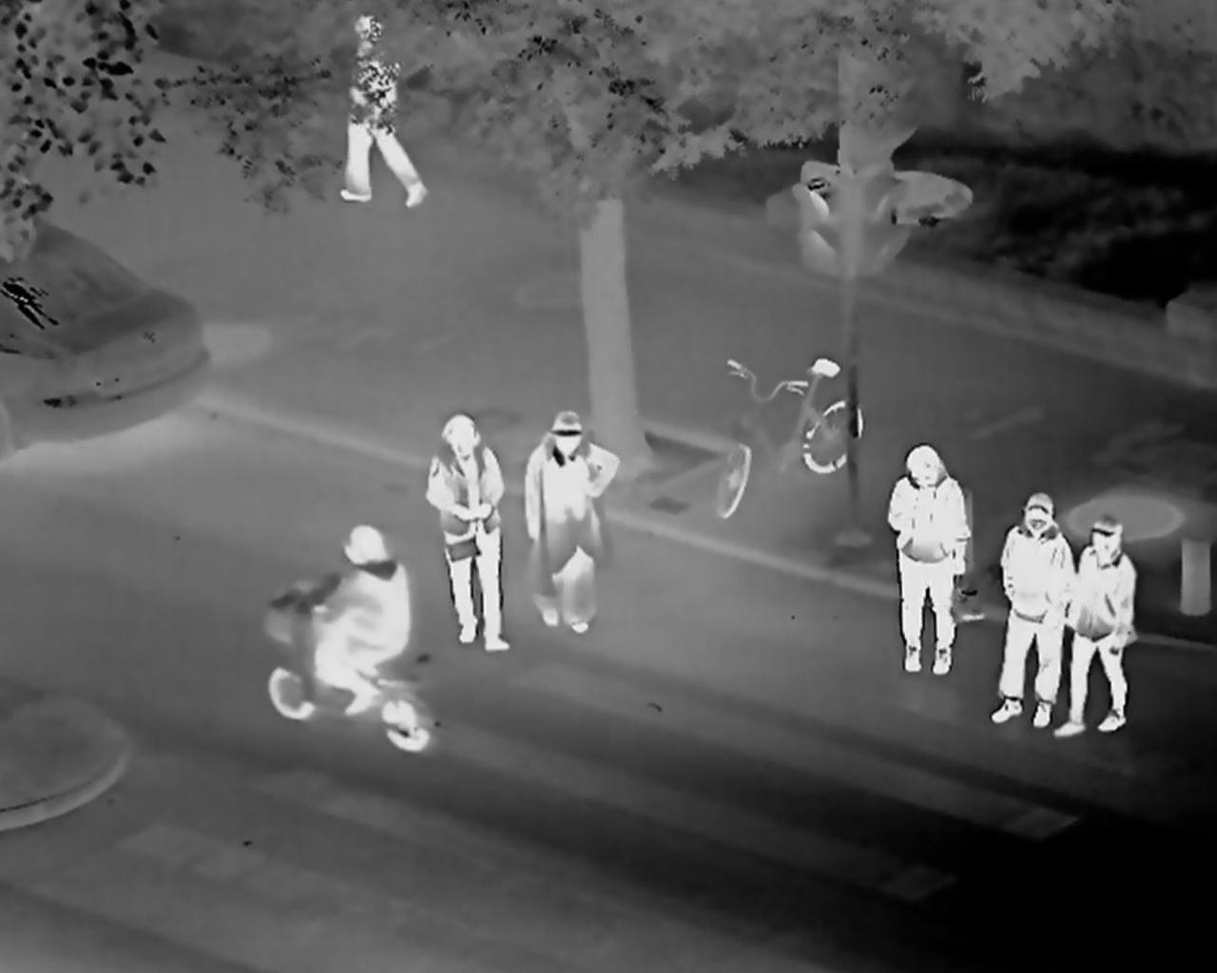person: (517, 408, 622, 635), (421, 410, 511, 653), (882, 445, 973, 677), (310, 527, 413, 711), (995, 492, 1075, 723), (338, 11, 429, 210), (1063, 516, 1140, 741)
